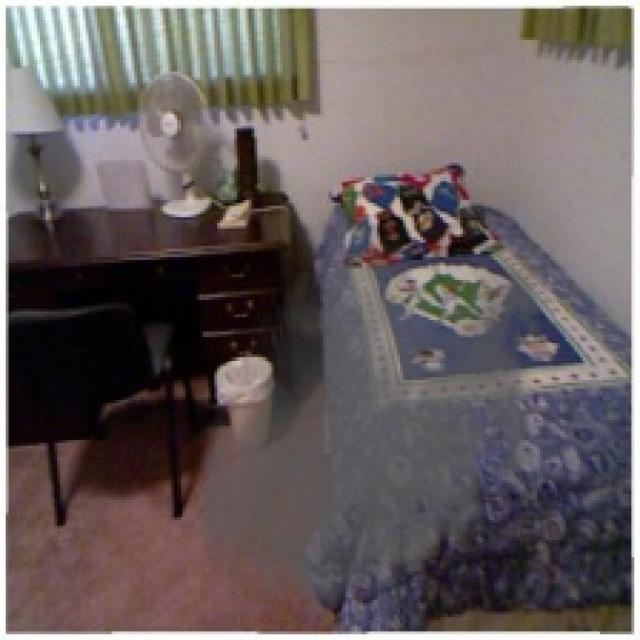smoke: (189, 223, 554, 637)
